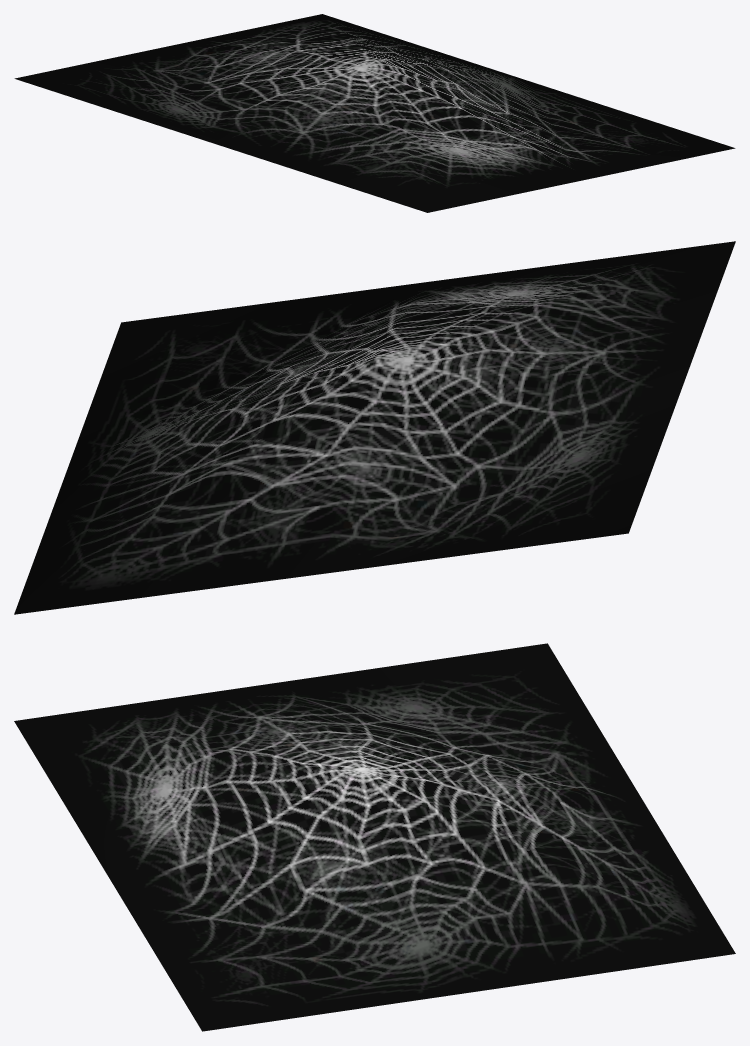
File: MIRKWOOD_PLANE41.fbx
3 renders of one model, top to bottom at view 1: azimuth 30°, elevation 25°; view 2: azimuth 150°, elevation 25°; view 3: azimuth 270°, elevation 25°, orthographic. The views are drawn at different scales.
Visible parts, largest first — view 1: MIRKWOOD_PLANE41; view 2: MIRKWOOD_PLANE41; view 3: MIRKWOOD_PLANE41.
Part boxes in pixels (box(x1,y1,x2,y2)): MIRKWOOD_PLANE41: box(14, 14, 735, 212); MIRKWOOD_PLANE41: box(14, 241, 735, 614); MIRKWOOD_PLANE41: box(14, 643, 735, 1031).
Bounding box in the file's own units: 199915 × 36230 × 207961.
Materials: 1 (1 with a texture image).
